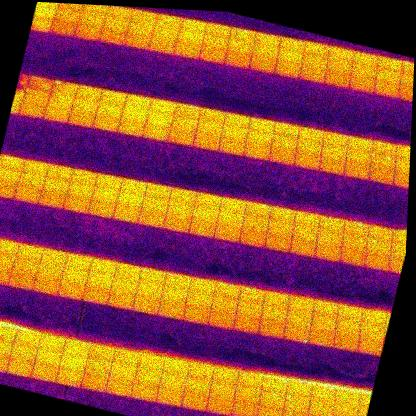Hotspot: (281, 392, 311, 416), (267, 203, 297, 226), (282, 321, 311, 344), (317, 213, 347, 235), (257, 388, 286, 410), (22, 85, 51, 106), (49, 77, 78, 98), (369, 151, 398, 172), (342, 218, 370, 239), (309, 383, 337, 404), (363, 237, 392, 257), (230, 25, 257, 46), (213, 280, 241, 300), (311, 298, 339, 318), (341, 232, 369, 252), (243, 200, 271, 220), (261, 374, 289, 394), (171, 114, 198, 134), (26, 72, 53, 92), (303, 39, 330, 59), (237, 285, 265, 304), (198, 107, 226, 126), (370, 139, 398, 158), (0, 153, 26, 172), (174, 102, 200, 121), (279, 406, 309, 416), (57, 3, 84, 14), (400, 59, 414, 78)
Normal: (217, 194, 248, 218), (162, 269, 192, 293), (5, 356, 35, 380), (214, 207, 245, 230), (132, 293, 162, 316), (332, 330, 362, 353), (284, 306, 314, 329), (309, 311, 339, 334), (315, 226, 345, 249), (154, 385, 184, 408), (308, 325, 337, 348), (9, 341, 38, 364), (56, 279, 86, 301), (156, 298, 186, 320), (257, 317, 287, 339), (259, 301, 289, 323), (38, 246, 68, 268), (63, 250, 93, 272), (295, 135, 325, 157), (296, 123, 326, 145), (32, 274, 61, 296), (107, 288, 136, 310), (182, 303, 211, 325), (89, 255, 118, 277), (188, 274, 217, 296), (238, 227, 267, 249), (288, 237, 317, 259), (313, 241, 342, 263), (66, 179, 95, 201), (337, 246, 366, 268), (31, 362, 60, 384), (55, 367, 84, 389), (59, 351, 88, 373), (183, 374, 212, 396), (87, 341, 116, 363), (211, 365, 240, 387), (291, 210, 321, 231), (136, 278, 164, 300), (46, 162, 74, 184), (99, 86, 127, 108), (233, 384, 261, 406), (233, 312, 262, 333), (36, 260, 65, 281), (110, 274, 139, 295), (235, 298, 264, 319), (333, 316, 362, 337), (138, 265, 167, 286), (335, 303, 364, 324), (359, 307, 388, 328), (13, 184, 42, 205), (62, 194, 91, 215), (137, 208, 166, 229), (188, 217, 217, 238), (262, 232, 291, 253), (41, 175, 70, 196), (140, 194, 169, 215), (240, 213, 269, 234), (290, 224, 319, 245), (70, 166, 99, 187), (143, 181, 172, 202), (79, 371, 108, 392), (105, 376, 134, 397), (117, 116, 146, 137), (243, 140, 272, 161), (318, 154, 347, 175), (195, 118, 224, 139), (180, 390, 209, 411), (123, 91, 152, 112), (208, 380, 237, 401), (38, 333, 67, 354), (62, 338, 91, 359), (236, 370, 265, 391), (179, 16, 209, 36), (12, 255, 40, 276), (359, 322, 387, 343), (91, 184, 119, 205), (116, 189, 144, 210), (266, 218, 294, 239), (119, 177, 147, 198), (193, 190, 221, 211), (131, 381, 159, 402), (143, 121, 171, 142), (218, 135, 246, 156), (268, 145, 296, 166), (367, 165, 395, 186), (75, 82, 103, 103), (148, 96, 176, 117), (223, 110, 251, 131), (272, 120, 300, 141), (206, 395, 234, 416), (99, 26, 127, 47), (35, 348, 63, 369), (253, 29, 281, 50), (159, 371, 187, 392), (137, 352, 165, 373), (162, 356, 190, 377), (60, 266, 89, 286), (160, 284, 189, 304), (21, 158, 50, 178), (17, 99, 46, 119), (92, 111, 121, 131), (47, 89, 76, 109), (70, 94, 99, 114), (120, 104, 149, 124), (321, 128, 350, 148), (173, 40, 202, 60), (248, 54, 277, 74), (298, 64, 327, 84), (301, 50, 328, 71), (113, 347, 140, 368), (8, 269, 36, 289), (83, 284, 111, 304), (208, 308, 236, 328), (85, 270, 113, 290), (185, 289, 213, 309), (210, 294, 238, 314), (114, 260, 142, 280), (263, 289, 291, 309), (287, 293, 315, 313), (37, 189, 65, 209), (88, 198, 116, 218), (113, 203, 141, 223), (163, 213, 191, 233), (363, 251, 391, 271), (166, 199, 194, 219), (191, 203, 219, 223), (95, 172, 123, 192), (169, 186, 197, 206), (365, 224, 393, 244), (44, 102, 72, 122), (167, 126, 195, 146), (293, 149, 321, 169), (343, 160, 371, 180), (146, 109, 174, 129), (221, 123, 249, 143), (245, 127, 273, 147), (270, 132, 298, 152), (248, 116, 276, 136), (74, 22, 102, 42), (124, 30, 152, 50), (348, 73, 376, 93), (176, 27, 204, 47), (205, 21, 233, 41), (278, 34, 306, 54), (109, 362, 137, 382), (134, 366, 162, 386), (13, 327, 41, 347), (187, 360, 215, 380), (285, 378, 313, 398), (334, 388, 362, 408), (192, 132, 221, 151), (273, 60, 302, 79), (276, 47, 305, 66), (350, 61, 379, 80), (374, 55, 403, 74), (306, 397, 335, 416), (357, 336, 383, 357), (16, 242, 43, 262), (68, 107, 95, 127), (128, 18, 155, 38), (85, 357, 112, 377), (214, 223, 242, 242), (18, 171, 46, 190), (95, 100, 123, 119), (344, 147, 372, 166), (51, 19, 79, 38), (199, 45, 227, 64), (53, 7, 81, 26), (78, 10, 106, 29), (102, 14, 130, 33), (251, 43, 279, 62), (201, 33, 230, 51), (226, 38, 255, 56), (321, 142, 348, 161), (347, 134, 374, 153), (224, 49, 251, 68), (323, 69, 350, 88), (374, 67, 401, 86), (155, 12, 182, 31), (105, 5, 133, 23), (325, 57, 353, 75), (130, 7, 158, 25), (327, 45, 355, 63), (0, 165, 23, 186), (372, 80, 400, 97), (351, 51, 379, 68), (231, 400, 259, 416), (150, 36, 176, 53), (153, 24, 179, 41), (0, 236, 20, 258), (390, 170, 409, 191), (331, 403, 359, 416), (0, 323, 17, 344), (82, 4, 109, 17), (0, 179, 17, 199), (0, 250, 16, 271), (255, 404, 283, 416), (393, 157, 410, 176), (396, 84, 413, 103), (394, 145, 410, 164), (398, 72, 414, 91), (0, 337, 14, 357), (0, 264, 12, 285), (0, 352, 9, 373), (305, 412, 333, 416), (329, 416, 357, 416)
